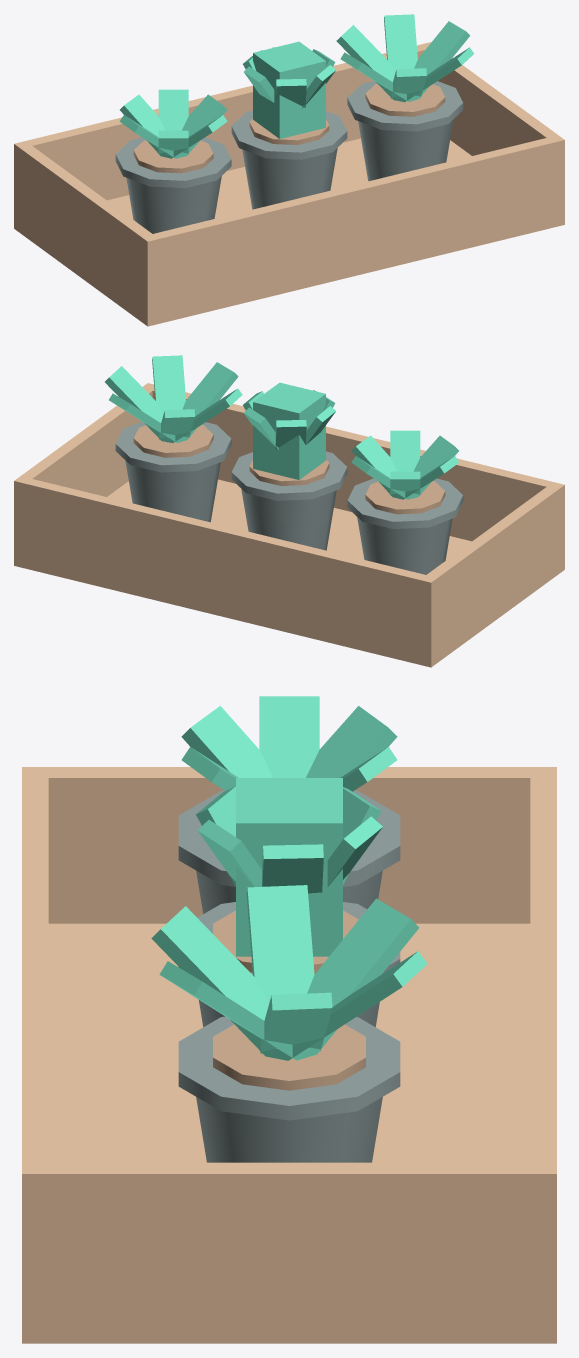
The model's file is plantHerbBox.glb.
The picture shows the model from 3 angles, top to bottom: view 1: azimuth 30°, elevation 25°; view 2: azimuth 150°, elevation 25°; view 3: azimuth 270°, elevation 25°; orthographic projection. The views are drawn at different scales.
Parts seen in each view (by area): view 1: plantHerbBox; view 2: plantHerbBox; view 3: plantHerbBox.
Part boxes in pixels (x1,y1,x2,y2): plantHerbBox: (14, 14, 564, 326); plantHerbBox: (14, 355, 564, 667); plantHerbBox: (22, 696, 556, 1343).
Size of the model in its own units: 0.36 by 0.14 by 0.2.
